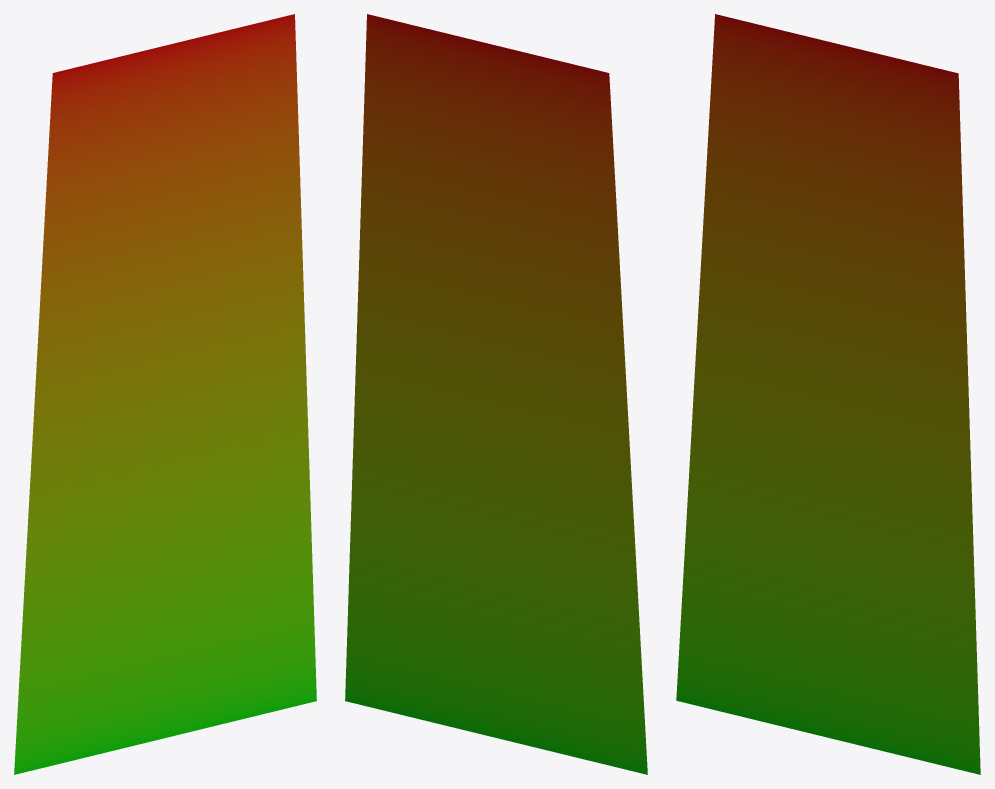
The model's file is Var2_LOD4.fbx.
3 renders of one model, left to right at view 1: azimuth 30°, elevation 25°; view 2: azimuth 150°, elevation 25°; view 3: azimuth 330°, elevation 25°, orthographic.
Visible parts, largest first — view 1: _8ecf_Var2_LOD4; view 2: _8ecf_Var2_LOD4; view 3: _8ecf_Var2_LOD4.
Part boxes in pixels (<box>): _8ecf_Var2_LOD4: <box>14,14,316,774</box>; _8ecf_Var2_LOD4: <box>345,14,647,774</box>; _8ecf_Var2_LOD4: <box>676,14,980,774</box>.
Bounding box in the file's own units: 17.38 × 37.97 × 7.87e-06.
